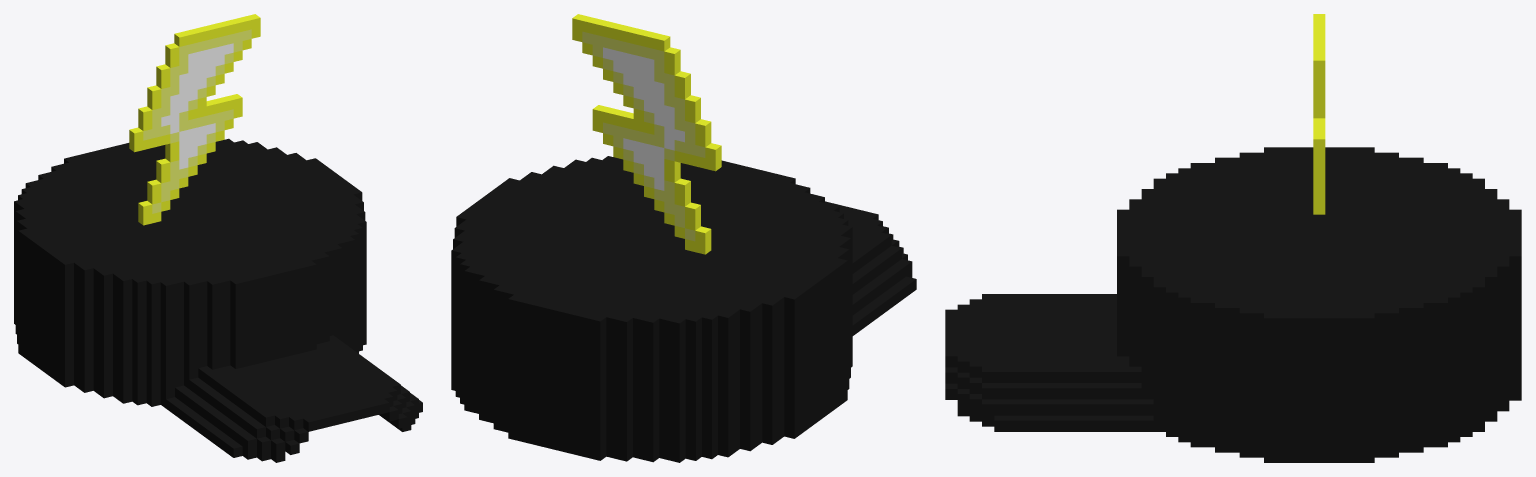
Rendered from Lightning.obj.
3 views of the same model, side by side, from view 1: azimuth 30°, elevation 25°; view 2: azimuth 150°, elevation 25°; view 3: azimuth 270°, elevation 25° (orthographic). The views are drawn at different scales.
Bounding box in the file's own units: 3.3 × 3.2 × 4.7.
1 material, 1 textured.
